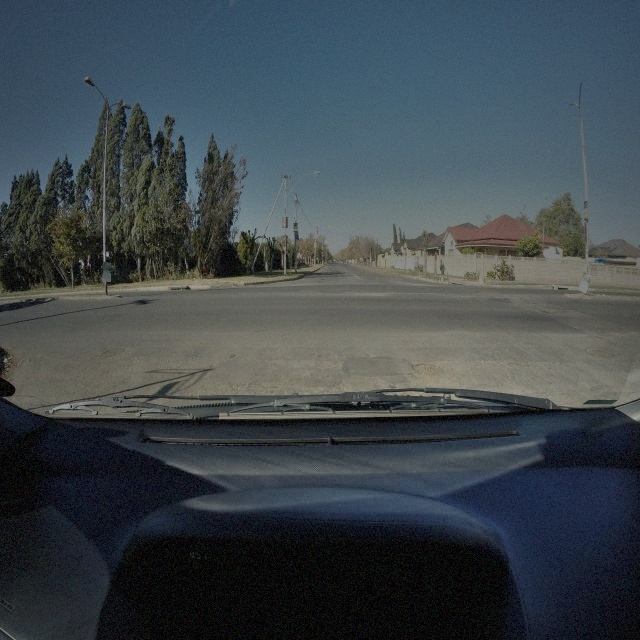pothole: (411, 361, 443, 381)
